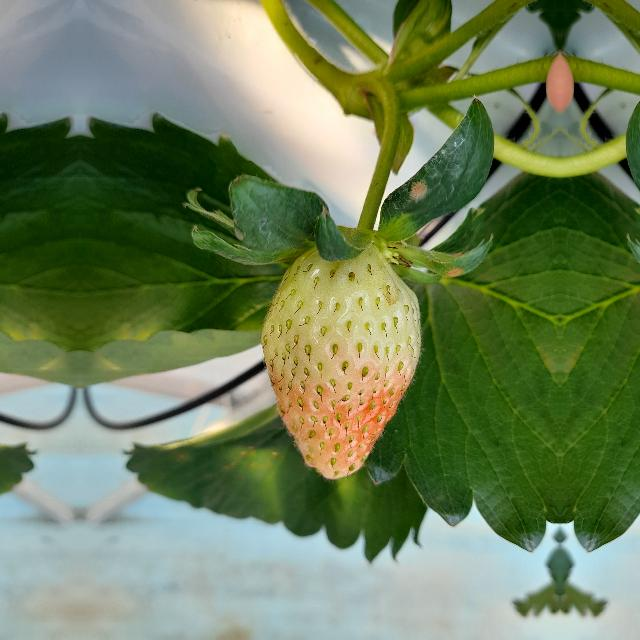Health_50: (258, 244, 424, 478)
